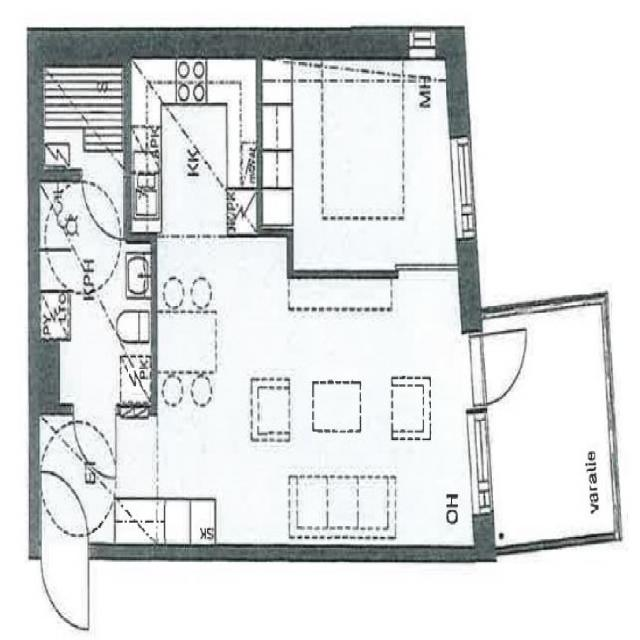door: (462, 329, 532, 407), (42, 473, 88, 561), (42, 546, 88, 633), (73, 406, 116, 480), (82, 169, 121, 241)
